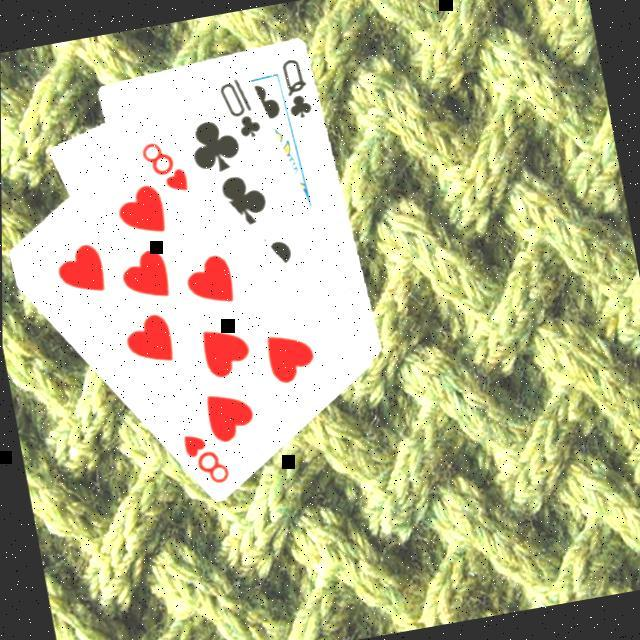10C: (216, 70, 267, 144)
8H: (178, 424, 235, 492), (137, 133, 194, 200)
QC: (280, 53, 318, 123)
